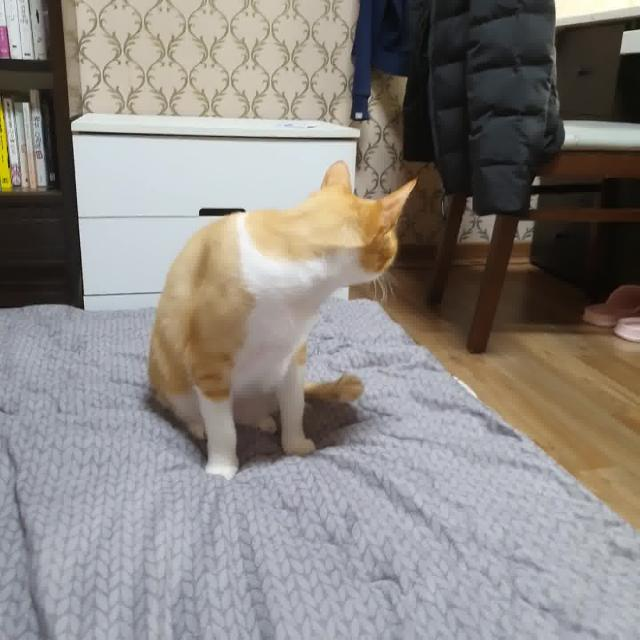cat: (132, 158, 427, 486)
